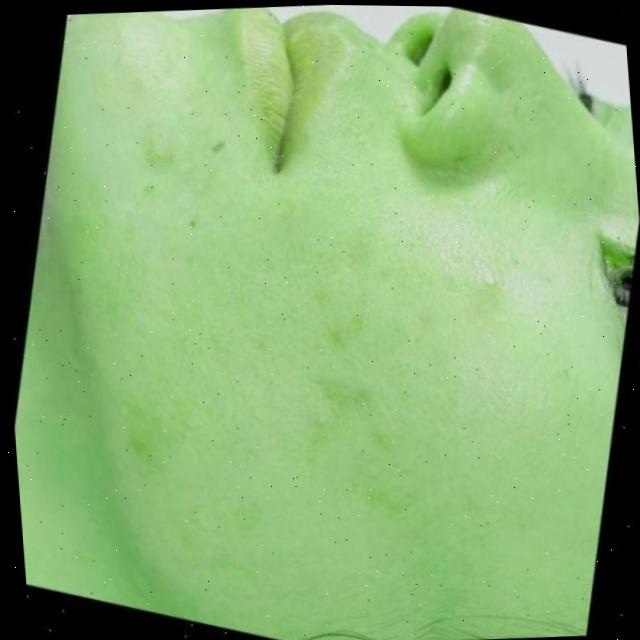Acne: (127, 274, 473, 535), (130, 128, 223, 239)
